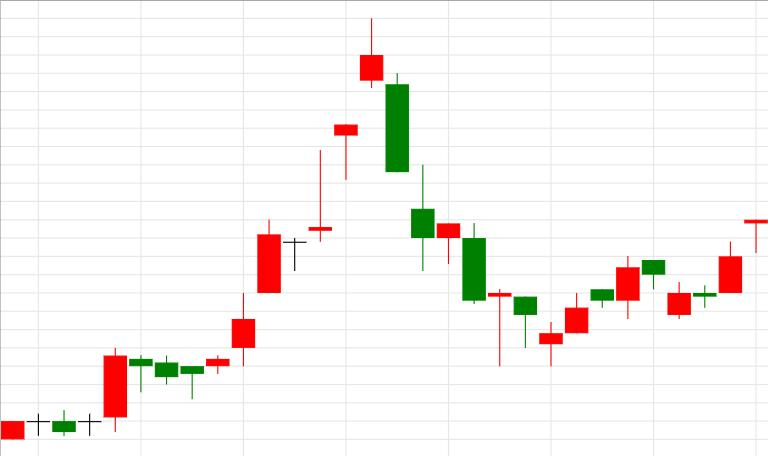shooting_star_fall: (207, 19, 383, 374)
